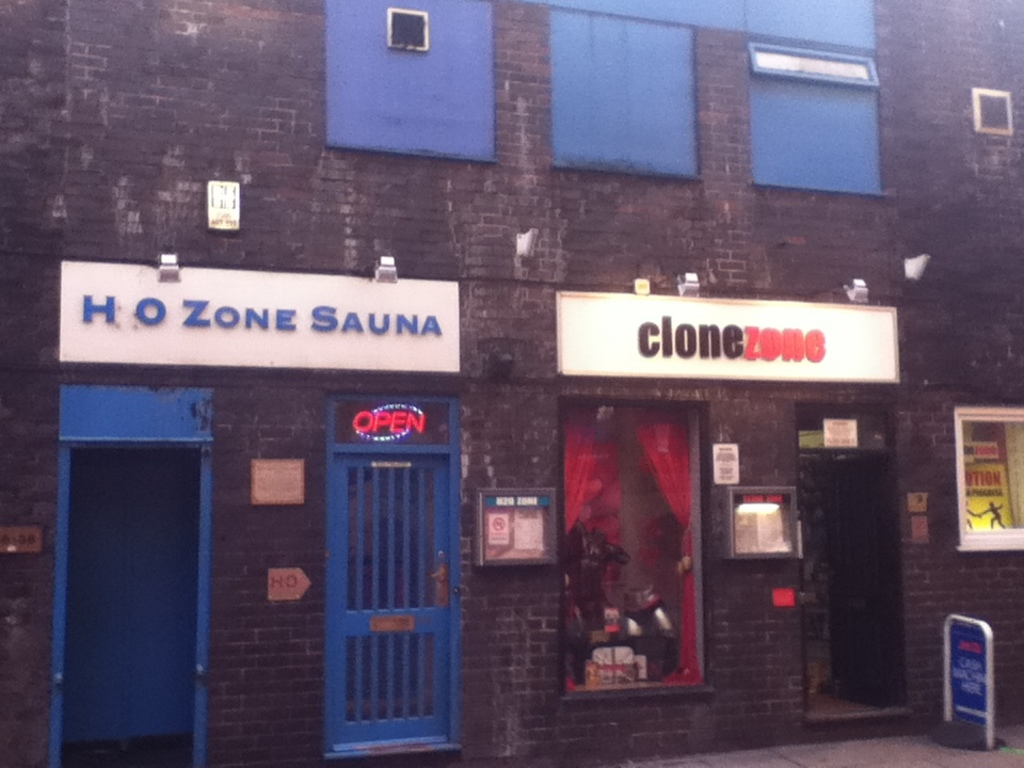Door: (321, 381, 451, 749), (825, 460, 900, 707)
